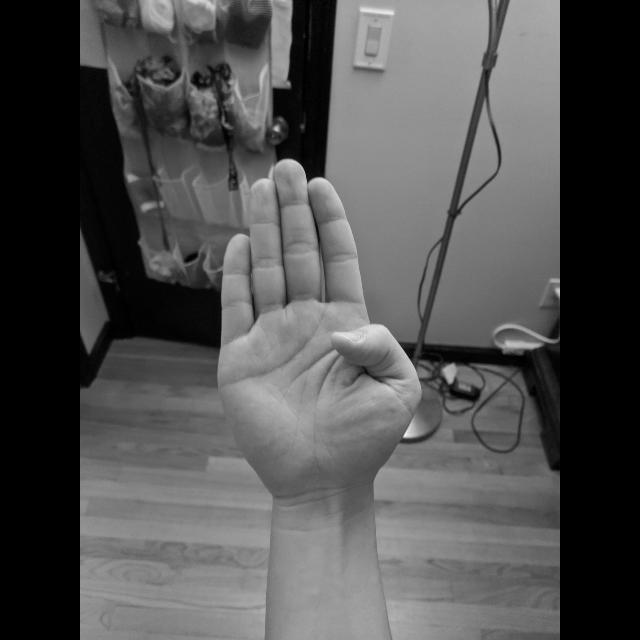B: (210, 153, 426, 511)
